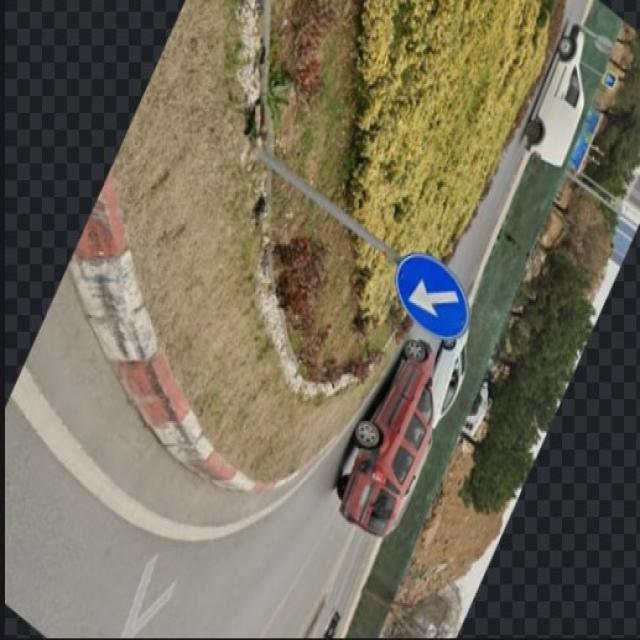Turn Left: (390, 253, 471, 340)
